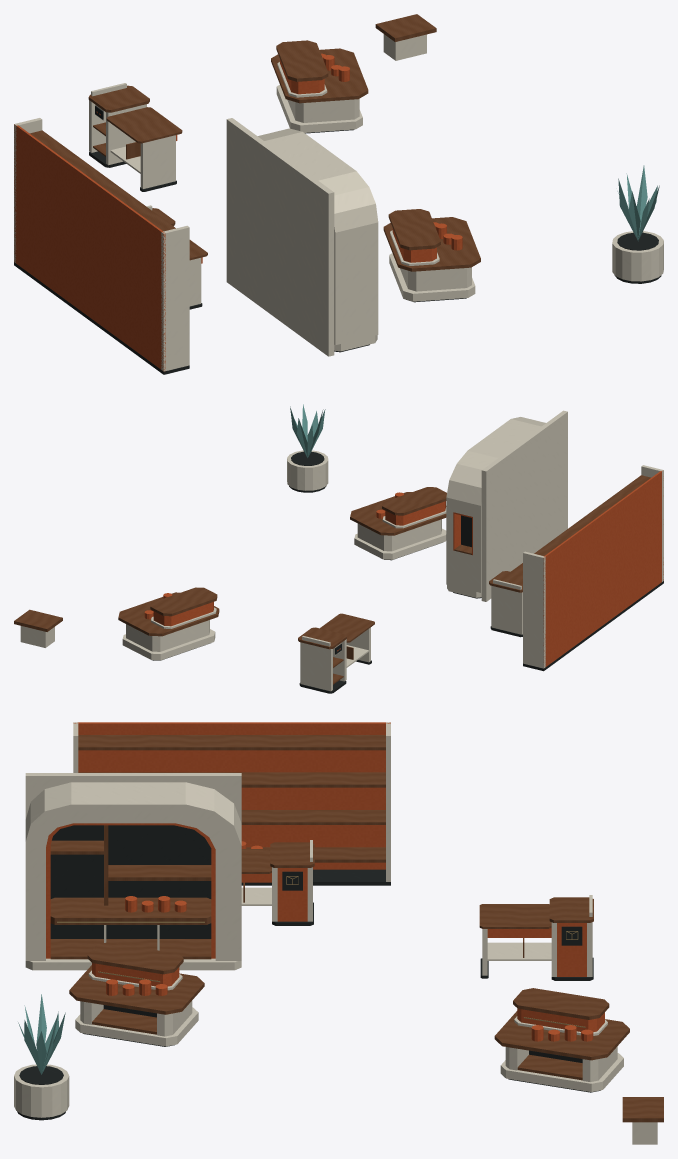
File: SHOP_D09_S72_F158__fitout.glb
The picture shows the model from 3 angles, top to bottom: view 1: azimuth 30°, elevation 25°; view 2: azimuth 150°, elevation 25°; view 3: azimuth 270°, elevation 25°; orthographic projection. The views are drawn at different scales.
Visible parts, largest first — view 1: SHOP_D09_S72_F158__fitout__ivory_enamel, SHOP_D09_S72_F158__fitout__retail_terracotta_enamel, SHOP_D09_S72_F158__fitout__warm_walnut, SHOP_D09_S72_F158__fitout__dark_rubber, SHOP_D09_S72_F158__fitout__quiet_teal; view 2: SHOP_D09_S72_F158__fitout__ivory_enamel, SHOP_D09_S72_F158__fitout__retail_terracotta_enamel, SHOP_D09_S72_F158__fitout__warm_walnut, SHOP_D09_S72_F158__fitout__dark_rubber, SHOP_D09_S72_F158__fitout__quiet_teal; view 3: SHOP_D09_S72_F158__fitout__warm_walnut, SHOP_D09_S72_F158__fitout__ivory_enamel, SHOP_D09_S72_F158__fitout__retail_terracotta_enamel, SHOP_D09_S72_F158__fitout__dark_rubber, SHOP_D09_S72_F158__fitout__quiet_teal, SHOP_D09_S72_F158__fitout__champagne_metal.
Boxes of the visible parts, left/top/right/bottom form: SHOP_D09_S72_F158__fitout__ivory_enamel: left=14, top=34, right=663, bottom=371; SHOP_D09_S72_F158__fitout__retail_terracotta_enamel: left=14, top=53, right=462, bottom=371; SHOP_D09_S72_F158__fitout__warm_walnut: left=30, top=14, right=480, bottom=271; SHOP_D09_S72_F158__fitout__dark_rubber: left=14, top=106, right=661, bottom=374; SHOP_D09_S72_F158__fitout__quiet_teal: left=617, top=165, right=659, bottom=240; SHOP_D09_S72_F158__fitout__ivory_enamel: left=20, top=410, right=663, bottom=691; SHOP_D09_S72_F158__fitout__retail_terracotta_enamel: left=144, top=471, right=663, bottom=666; SHOP_D09_S72_F158__fitout__warm_walnut: left=14, top=475, right=650, bottom=684; SHOP_D09_S72_F158__fitout__dark_rubber: left=152, top=451, right=663, bottom=693; SHOP_D09_S72_F158__fitout__quiet_teal: left=290, top=404, right=325, bottom=457; SHOP_D09_S72_F158__fitout__warm_walnut: left=50, top=735, right=663, bottom=1122; SHOP_D09_S72_F158__fitout__ivory_enamel: left=14, top=722, right=657, bottom=1144; SHOP_D09_S72_F158__fitout__retail_terracotta_enamel: left=46, top=722, right=604, bottom=1041; SHOP_D09_S72_F158__fitout__dark_rubber: left=17, top=825, right=600, bottom=1120; SHOP_D09_S72_F158__fitout__quiet_teal: left=18, top=994, right=65, bottom=1074; SHOP_D09_S72_F158__fitout__champagne_metal: left=57, top=876, right=585, bottom=1027.
Bounding box in the file's own units: 10.25 × 3 × 10.24.
6 materials, 5 textured.
